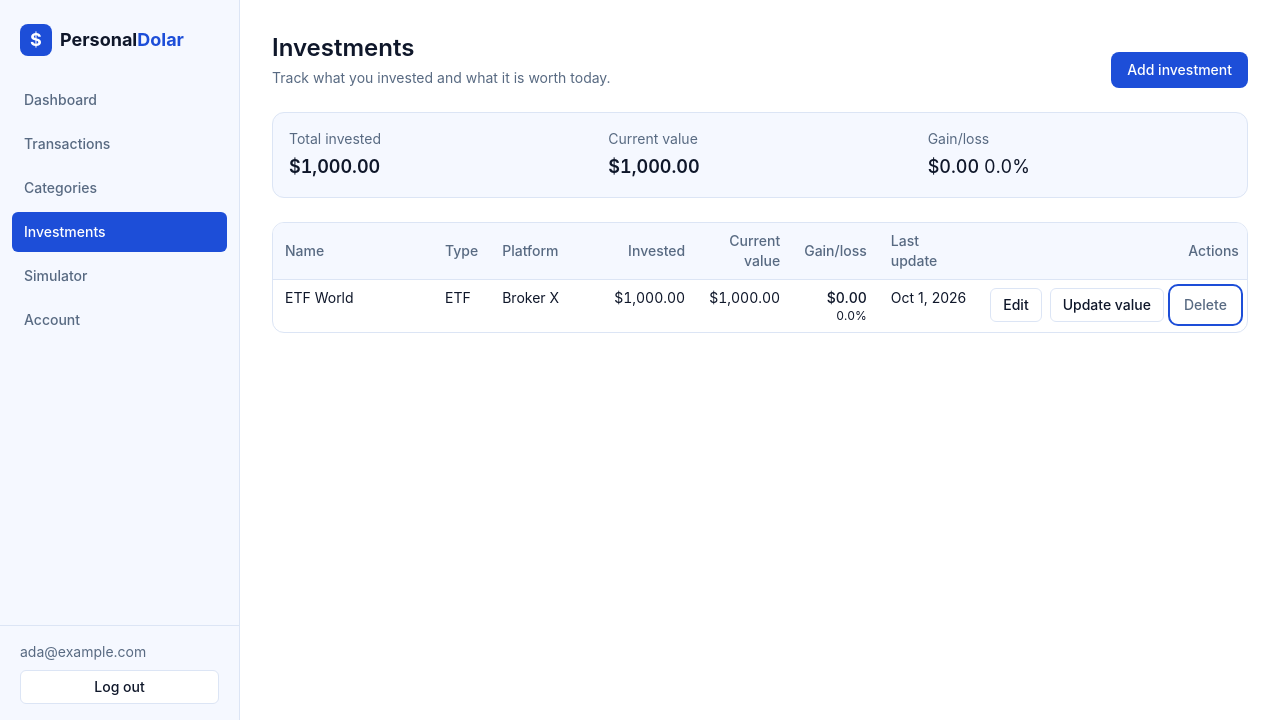
Delete investment › shows the empty state after deleting the only investment
Expected: the table named "Investments" is shown, top-left (273, 223), bottom-right (1248, 332)
Click the button with aria-label "Delete ETF World" at (1205,305), box top-left (1172, 288), bottom-right (1239, 322)
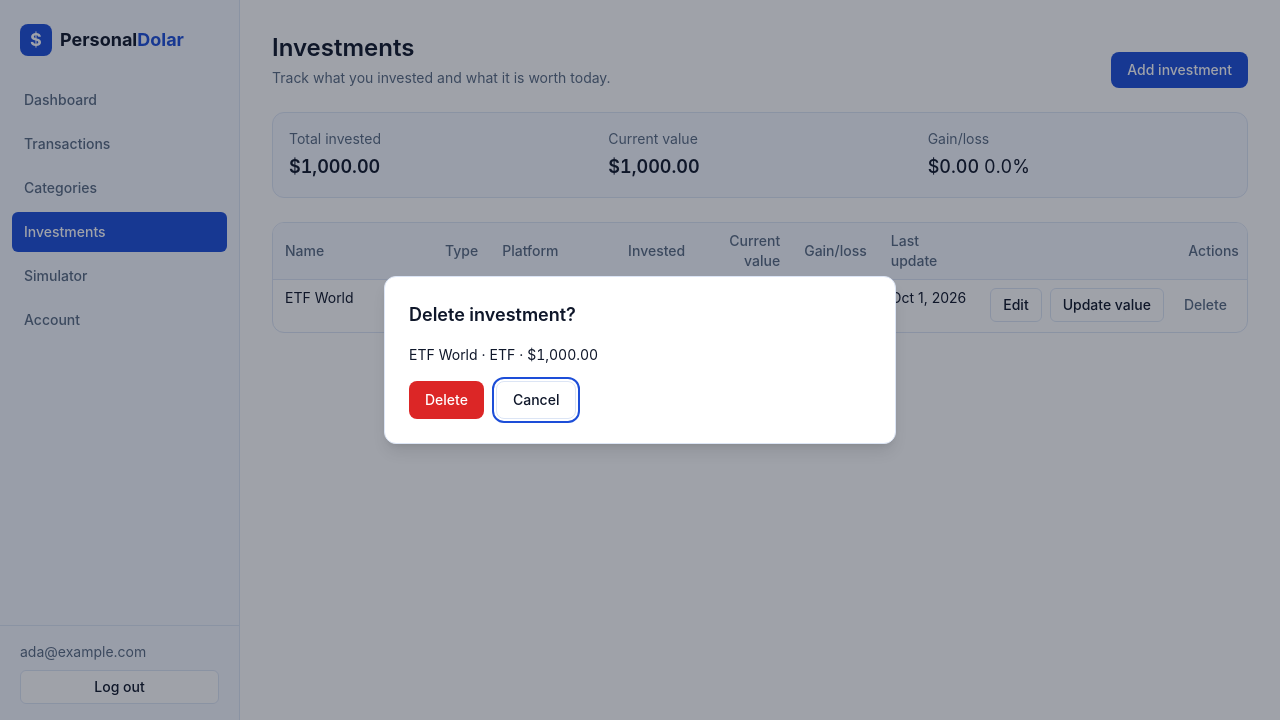
Click the button "Delete" at (446,400), box top-left (409, 381), bottom-right (484, 419)
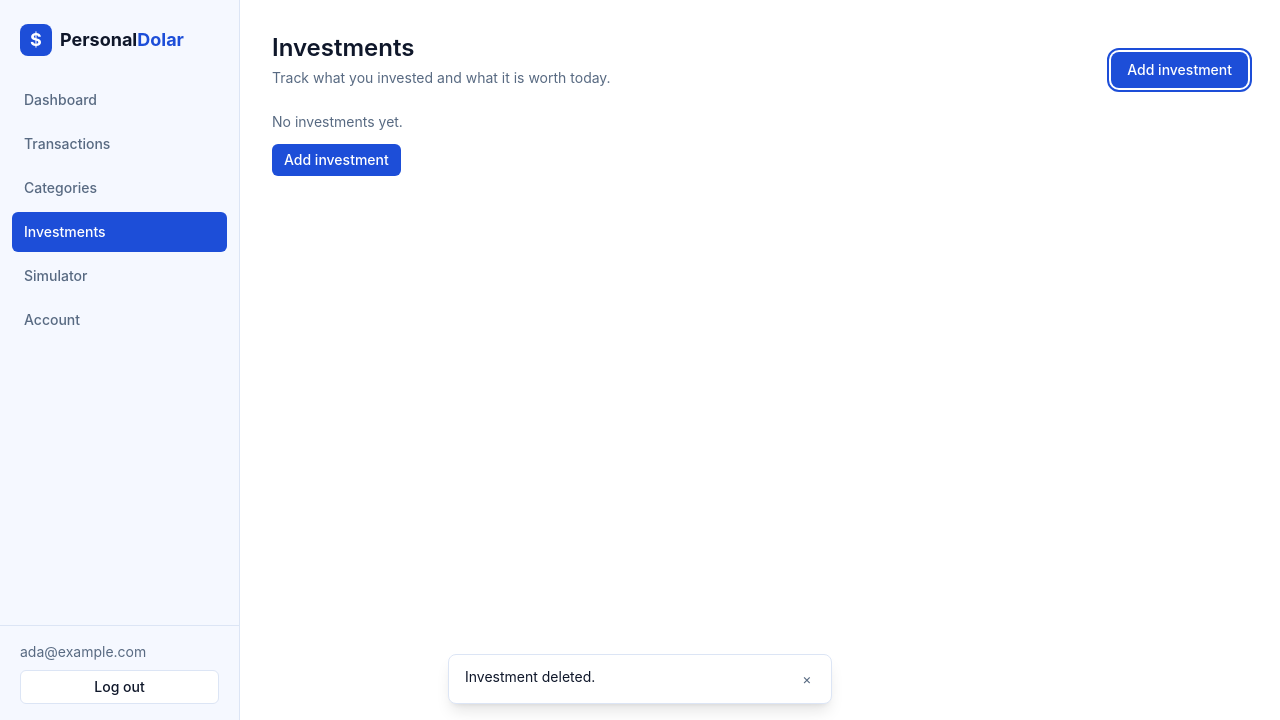
Now the text "No investments yet." is shown, box top-left (272, 112), bottom-right (403, 132)
Now the text "Investment deleted." is shown, box top-left (465, 668), bottom-right (595, 685)
Now the number of buttons "Add investment" is 2, box top-left (1111, 52), bottom-right (1248, 88); top-left (272, 144), bottom-right (401, 176)
